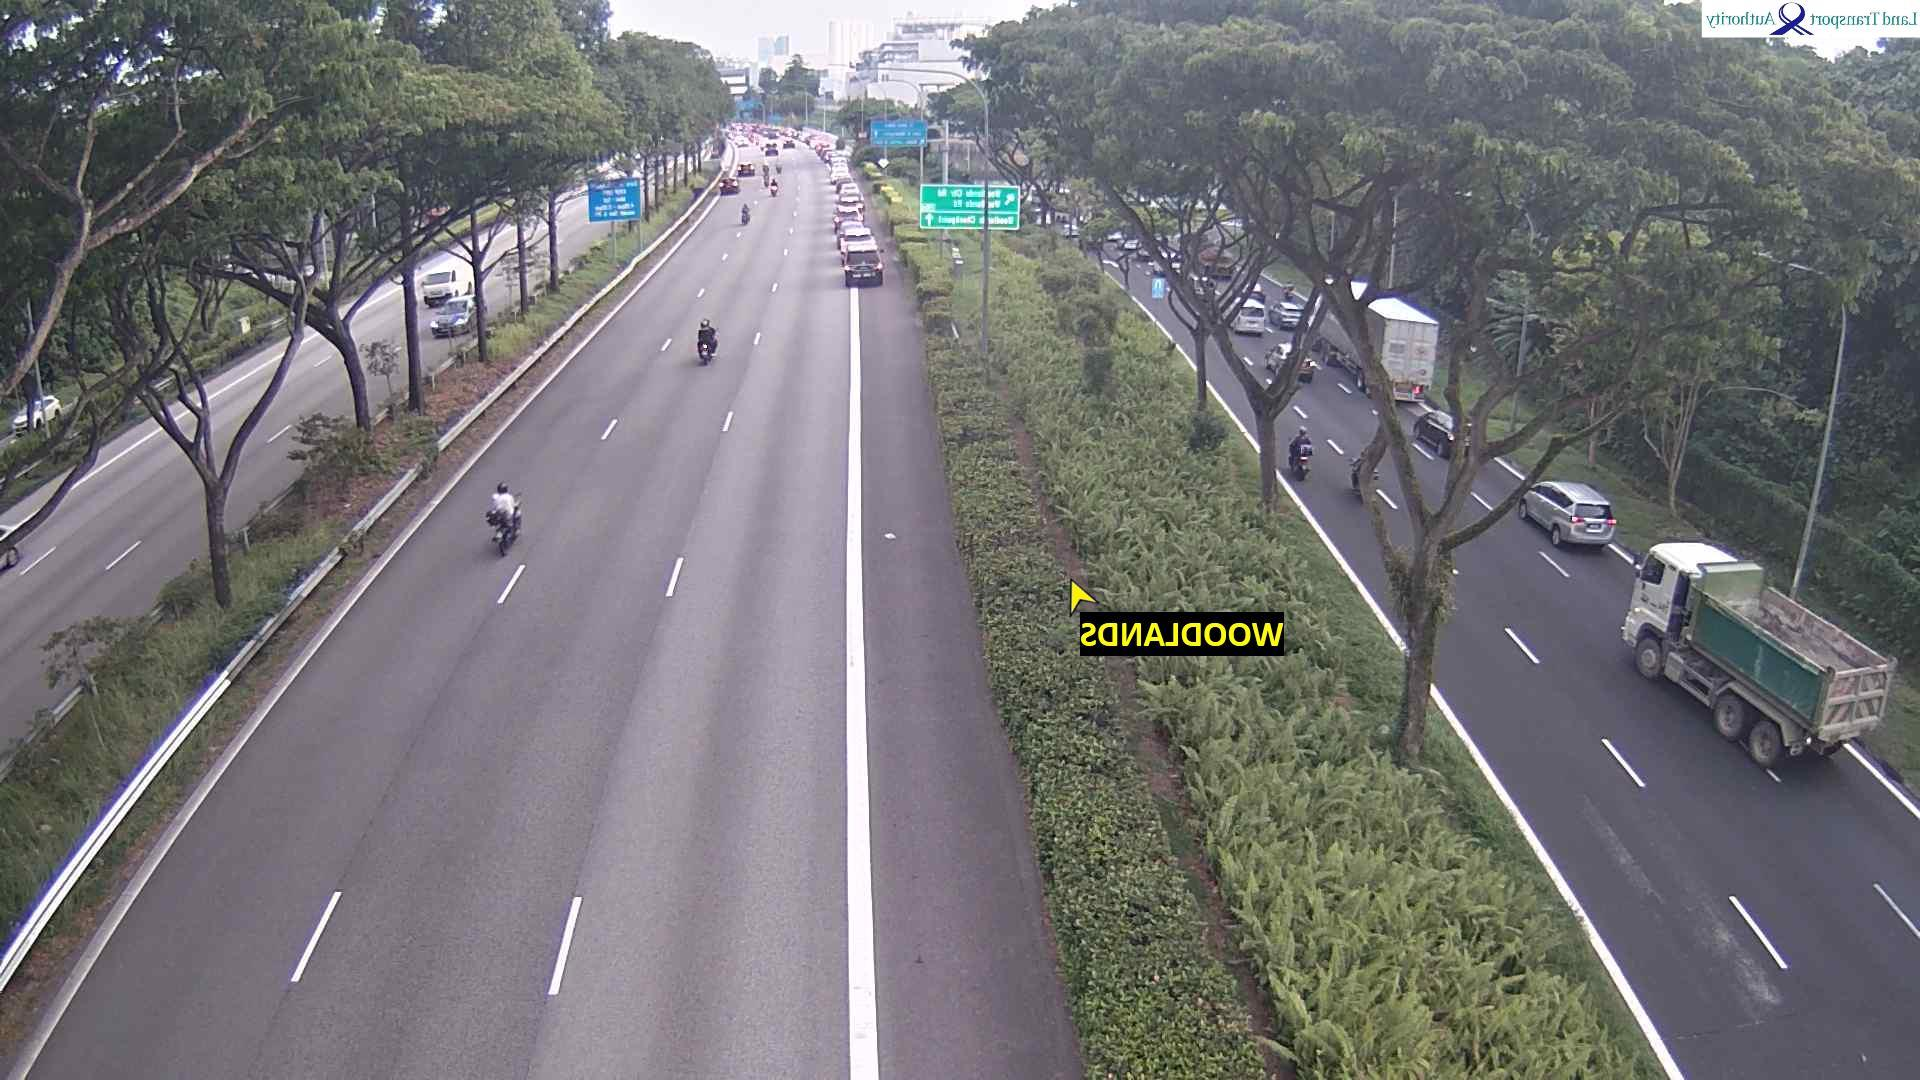incoming: (429, 304, 470, 338), (421, 271, 458, 304)
